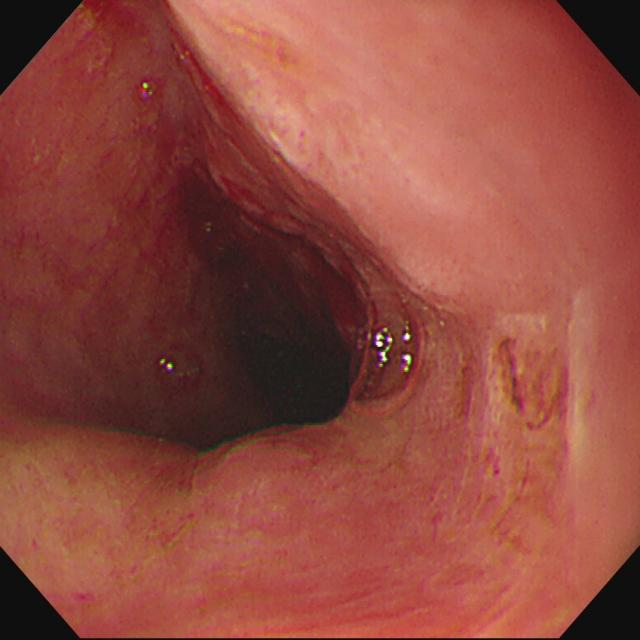A: (452, 343, 577, 478), (211, 139, 336, 263)
C: (171, 27, 249, 128)
E: (270, 330, 350, 422)
U: (375, 327, 393, 370), (401, 354, 414, 376), (160, 358, 175, 376), (401, 322, 413, 343), (140, 83, 154, 101)
